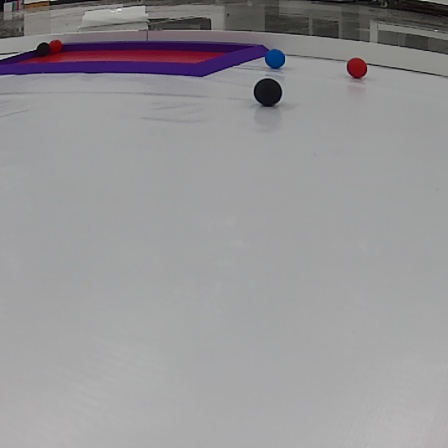black: (252, 80, 287, 106), (37, 44, 51, 54)
blue: (264, 50, 286, 66)
red: (344, 58, 368, 76), (48, 41, 64, 53)
red_aim: (3, 40, 264, 75)
